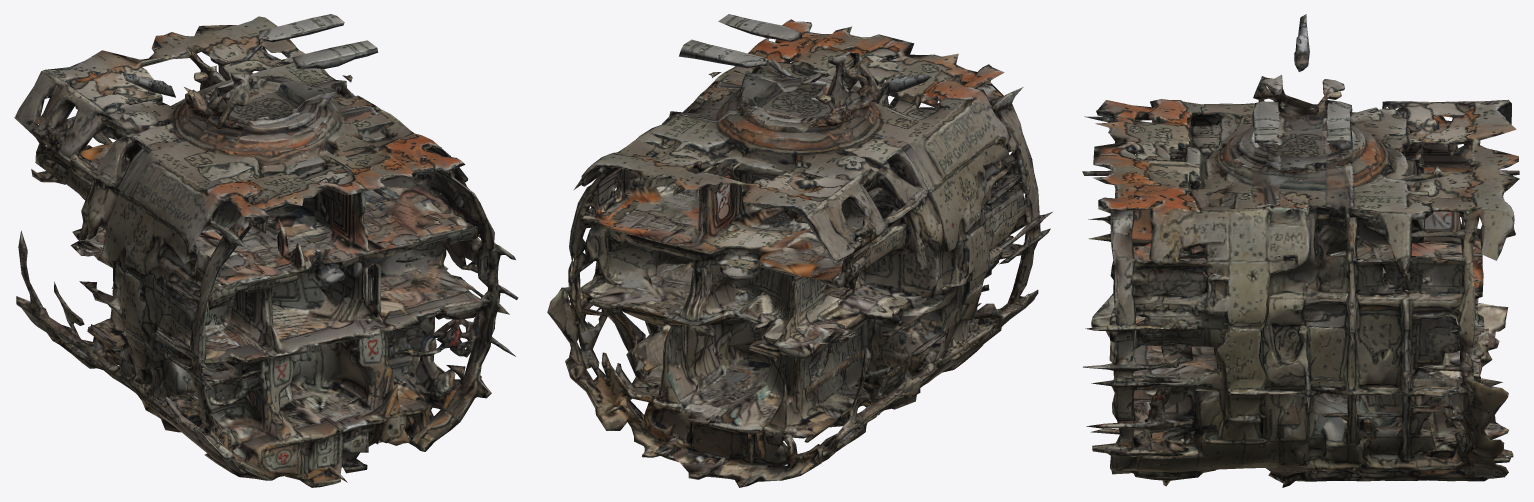
File: BattleshipWreck.fbx
3 renders of one model, left to right at view 1: azimuth 30°, elevation 25°; view 2: azimuth 150°, elevation 25°; view 3: azimuth 270°, elevation 25°, orthographic. The views are drawn at different scales.
Parts seen in each view (by area): view 1: texture_mapping; view 2: texture_mapping; view 3: texture_mapping.
Boxes of the visible parts, x1=… form: texture_mapping: x1=14, y1=14, x2=518, y2=487; texture_mapping: x1=547, y1=14, x2=1052, y2=487; texture_mapping: x1=1082, y1=14, x2=1519, y2=487.
Bounding box in the file's own units: 0.819 × 0.9796 × 0.9415.
1 material, 1 textured.
